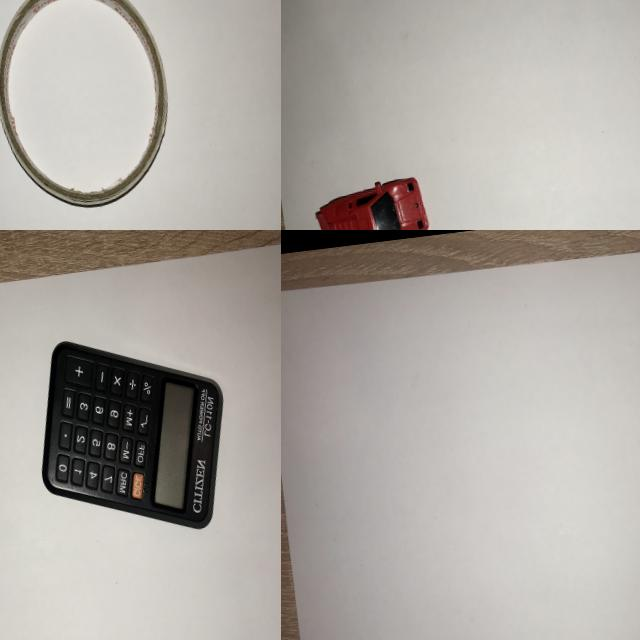calculator: (20, 316, 243, 554)
car: (310, 161, 438, 230)
scotch: (0, 0, 183, 223)
